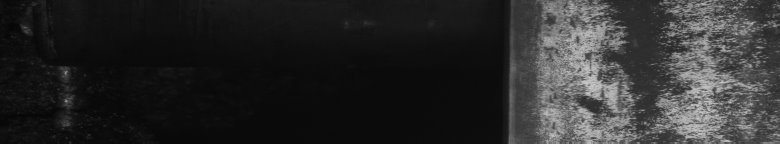kb: (531, 4, 776, 136)
